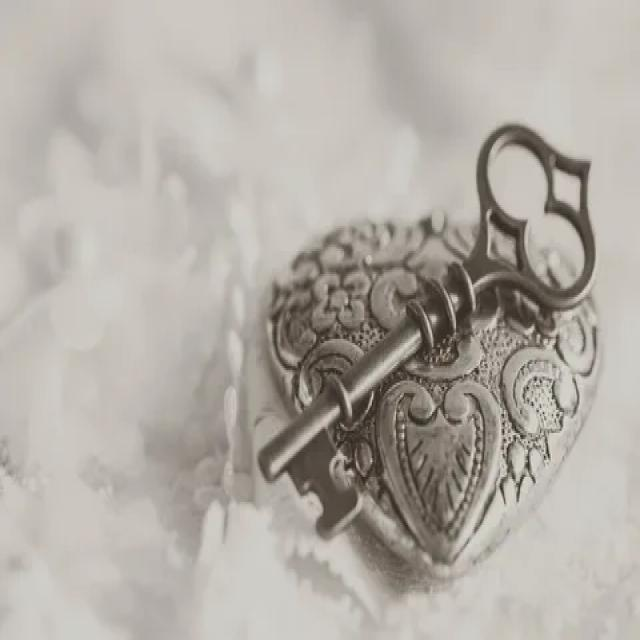key: (245, 102, 602, 542)
